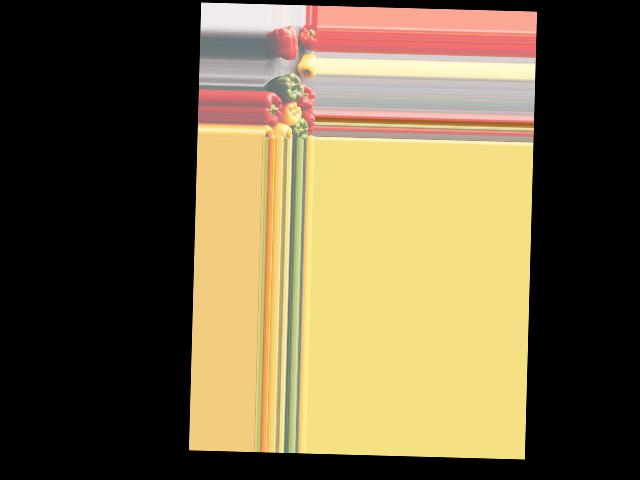bell_pepper: (299, 23, 315, 51)
